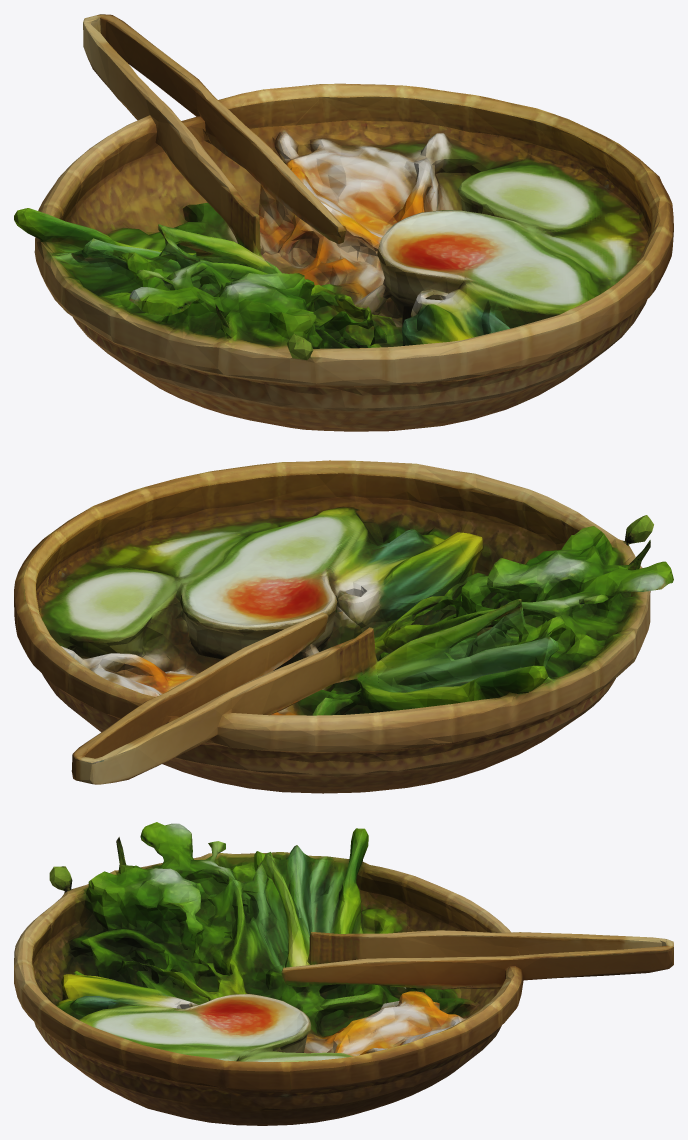
File: rau_thom.glb
The picture shows the model from 3 angles, top to bottom: view 1: azimuth 30°, elevation 25°; view 2: azimuth 150°, elevation 25°; view 3: azimuth 270°, elevation 25°; orthographic projection. The views are drawn at different scales.
Visible parts, largest first — view 1: world; view 2: world; view 3: world.
Part boxes in pixels (x1,y1,x2,y2): world: [14, 14, 673, 431]; world: [14, 460, 673, 793]; world: [14, 822, 673, 1125].
Bounding box in the file's own units: 0.7777 × 0.2438 × 0.9986.
Materials: 1 (1 with a texture image).
